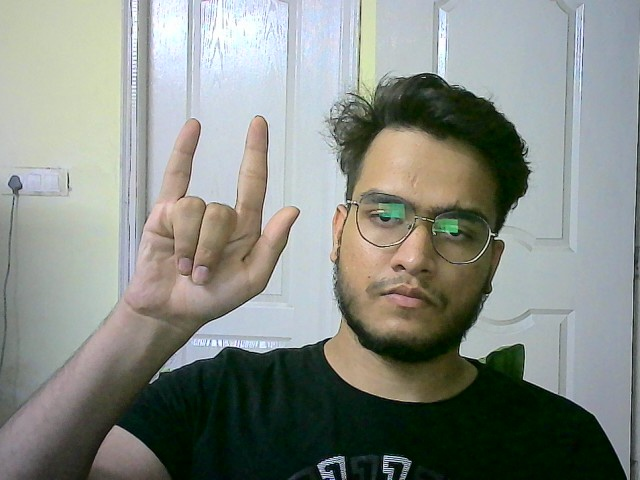I Love You: (127, 110, 305, 328)
